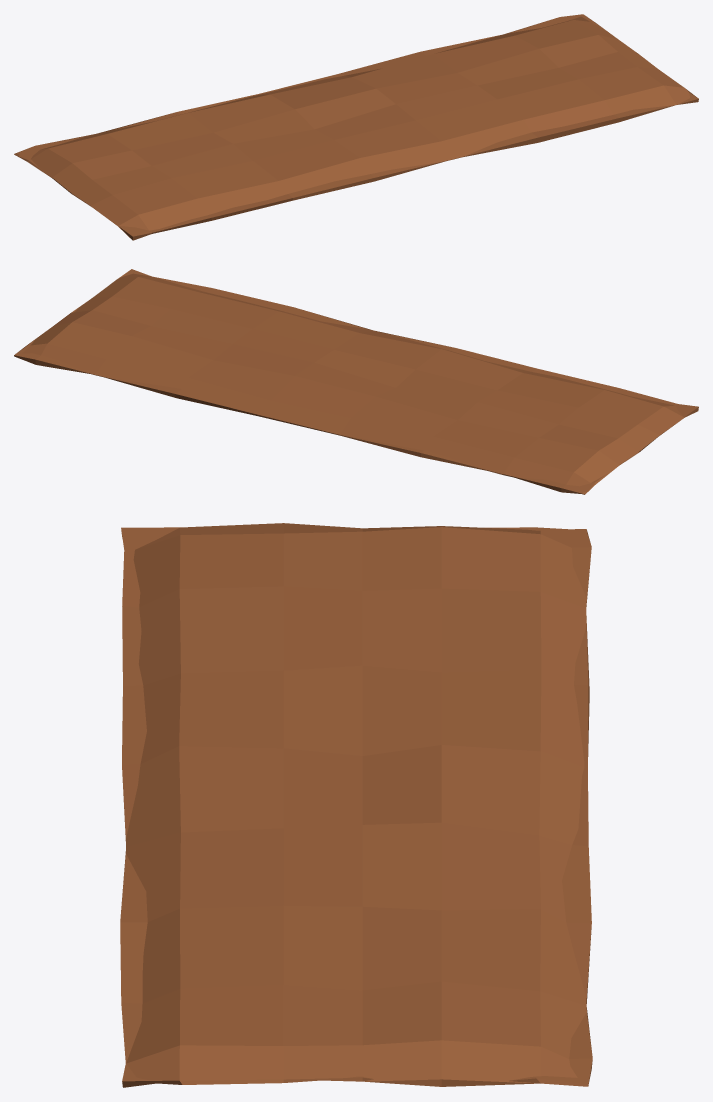
Rendered from cropfield.fbx.
3 views of the same model, one above another, from view 1: azimuth 30°, elevation 25°; view 2: azimuth 150°, elevation 25°; view 3: azimuth 270°, elevation 25° (orthographic). The views are drawn at different scales.
Parts seen in each view (by area): view 1: Cube; view 2: Cube; view 3: Cube.
Part boxes in pixels (bbox=[...]): Cube: bbox=[14, 14, 698, 240]; Cube: bbox=[14, 269, 698, 494]; Cube: bbox=[120, 523, 592, 1087].
Bounding box in the file's own units: 45047 × 1181 × 16152.
